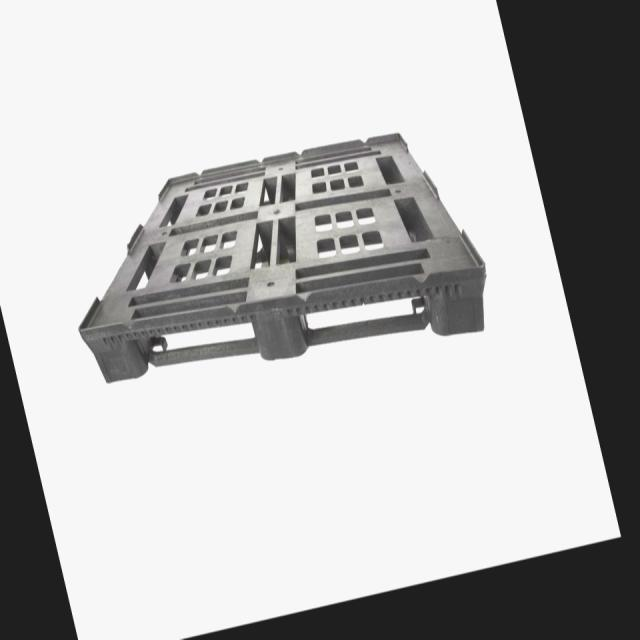non-igps: (68, 123, 492, 393)
